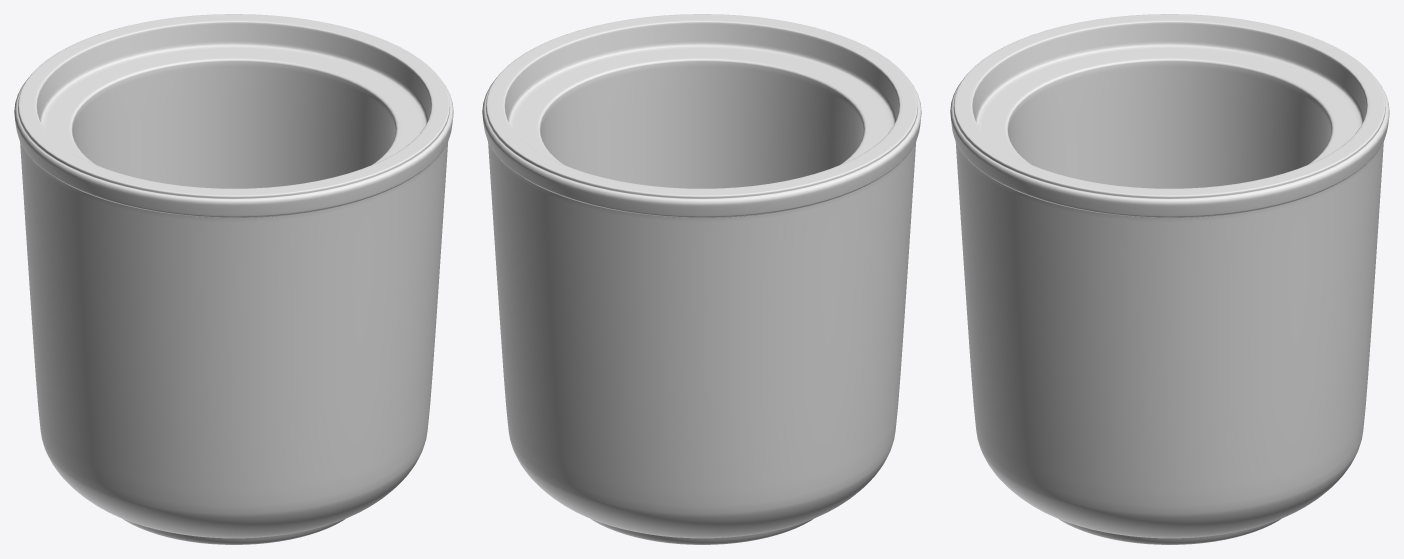
3 views of the same model, side by side, from view 1: azimuth 30°, elevation 25°; view 2: azimuth 150°, elevation 25°; view 3: azimuth 270°, elevation 25° (orthographic).
Visible parts, largest first — view 1: 271CM1030WH; view 2: 271CM1030WH; view 3: 271CM1030WH.
Part boxes in pixels (x1,y1,x2,y2): 271CM1030WH: (14,14,453,544); 271CM1030WH: (482,14,921,544); 271CM1030WH: (950,14,1389,544).
Bounding box in the file's own units: 0.174 × 0.1685 × 0.174.
Materials: 1 (1 with a texture image).
